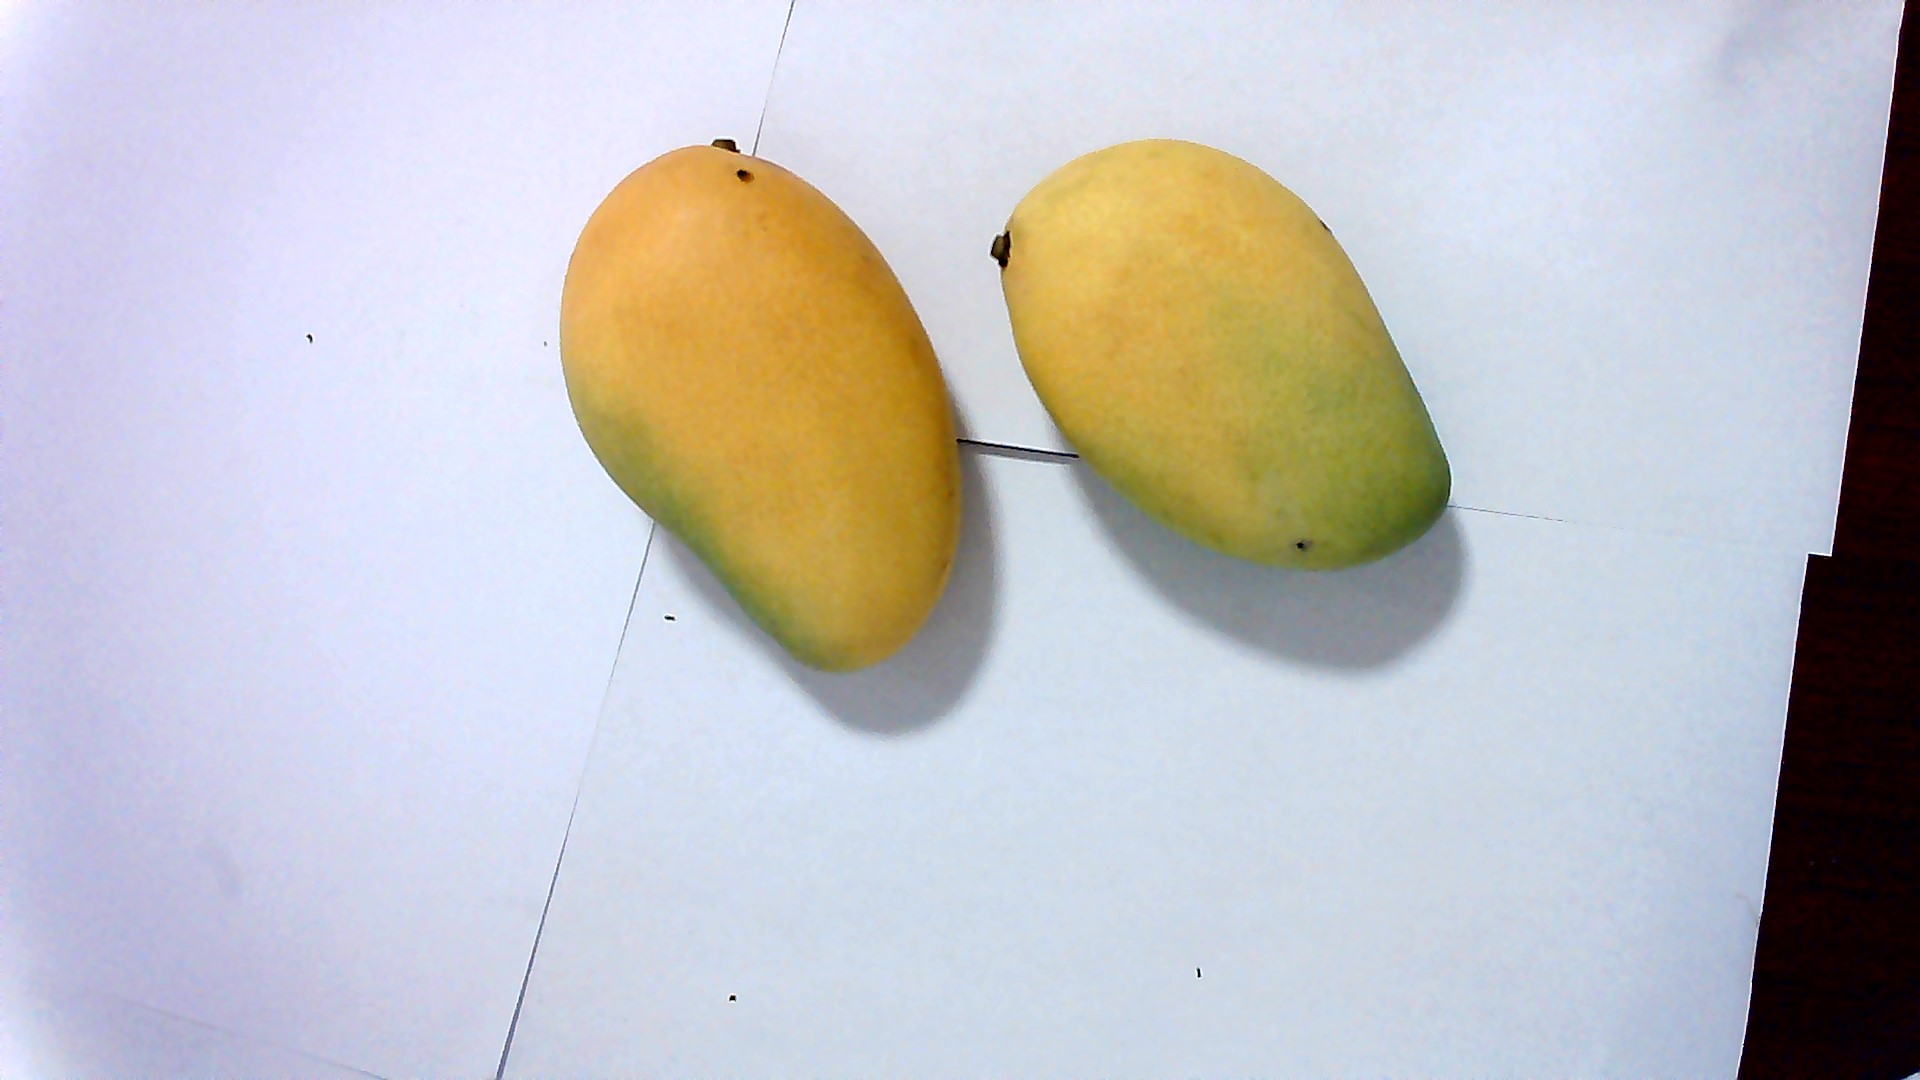mongo: (572, 142, 985, 683), (992, 164, 1484, 576)
